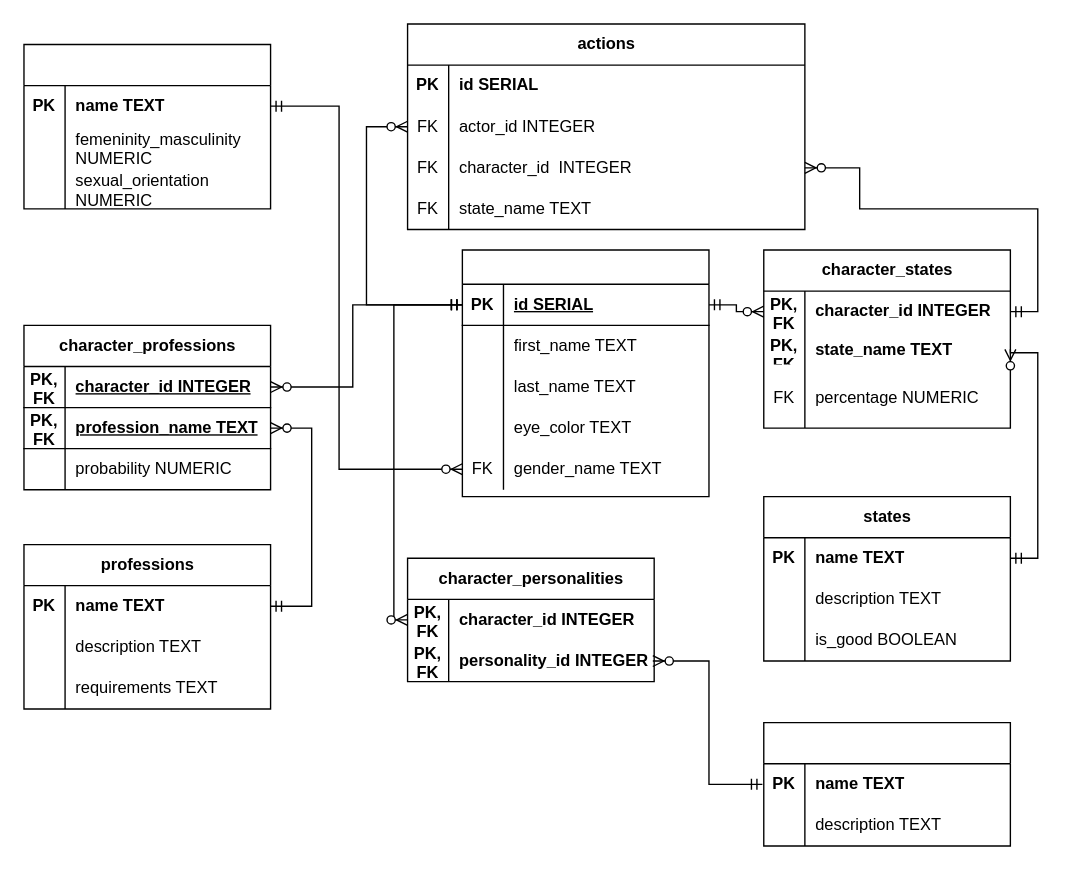
Some shapes in this 1074 by 870 pixel diagram are drawn without their labels. The shapes that lost their labels are listed below. From the top down, each one's box as (x1, y1, x2, y2) in pixels, then its label:
(23, 43, 271, 209): genders
(461, 249, 709, 497): characters
(762, 721, 1010, 846): personalities
